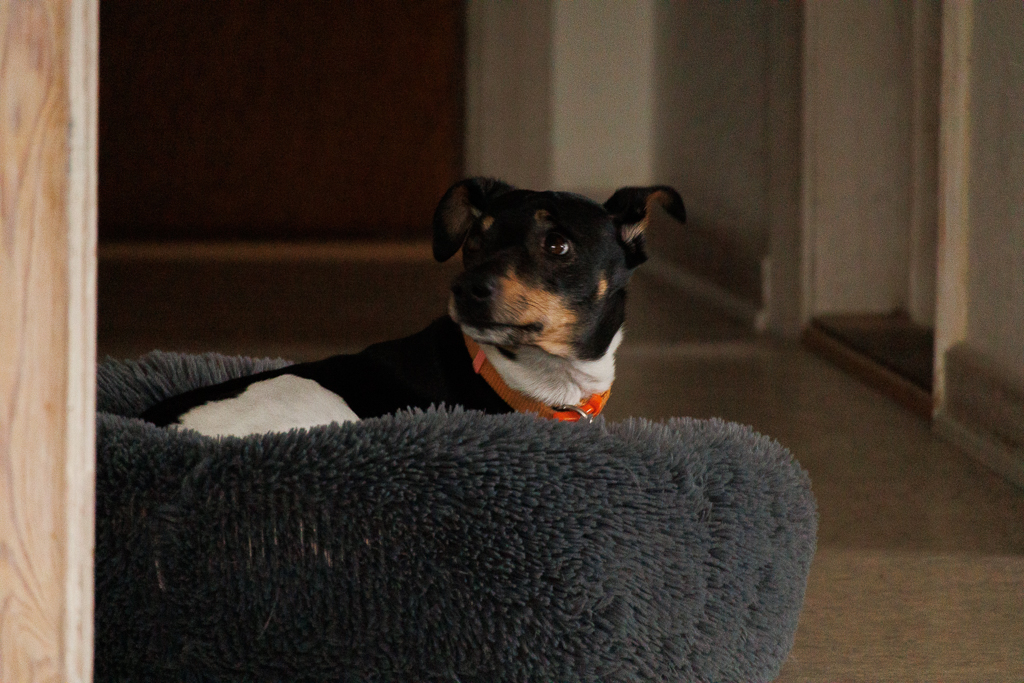Dog: (103, 163, 708, 458)
